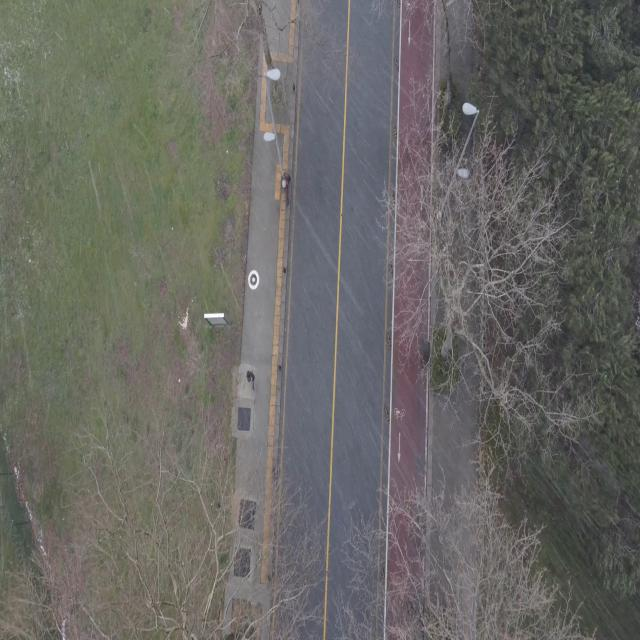p3rson: (245, 369, 255, 390)
